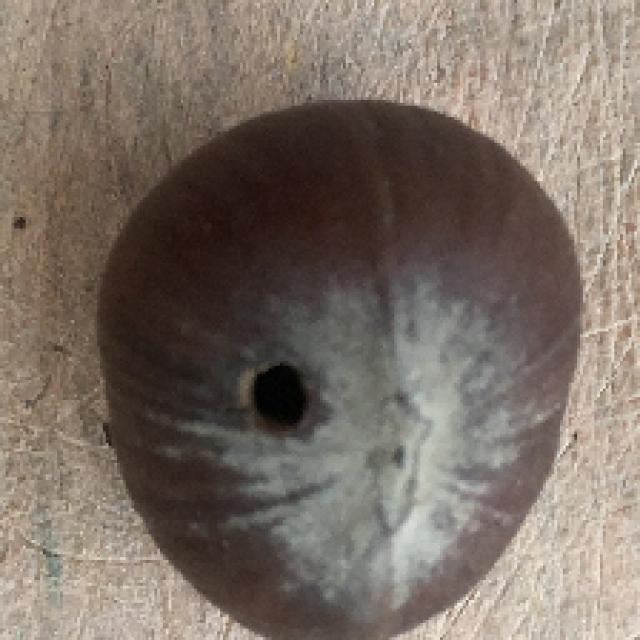DamagedHazelnut: (99, 101, 583, 637)
